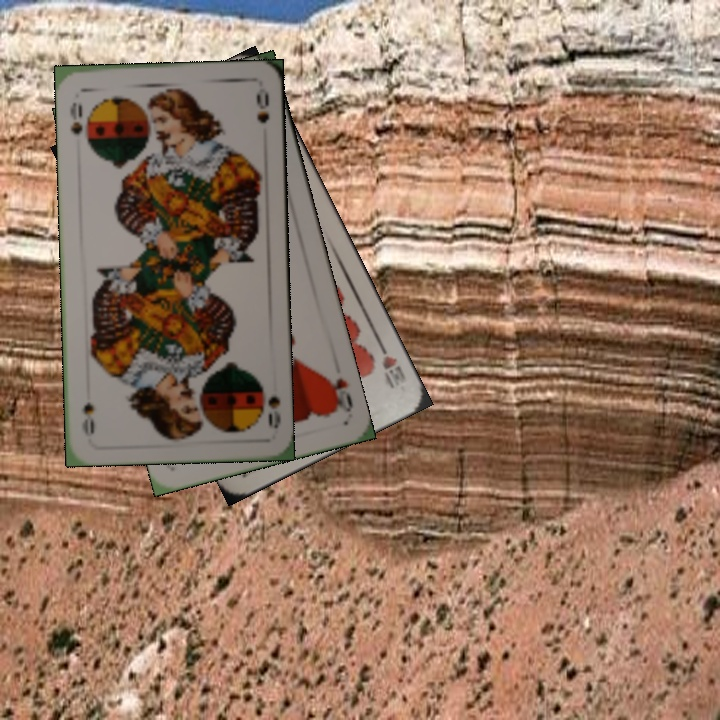H10: (373, 335, 409, 392)
HO: (322, 371, 356, 415)
SO: (256, 375, 284, 431), (66, 99, 85, 137)
